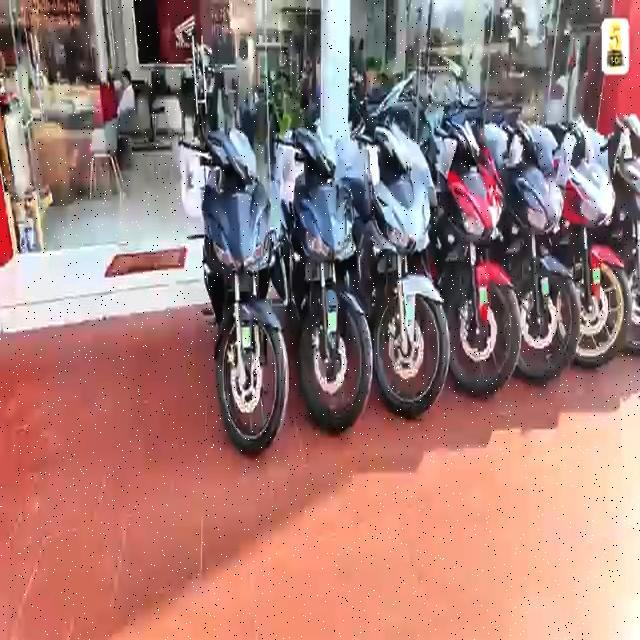motorcycle: (181, 109, 297, 462), (279, 125, 374, 438), (359, 118, 454, 424), (436, 114, 526, 406), (501, 122, 581, 394), (562, 121, 632, 371)
